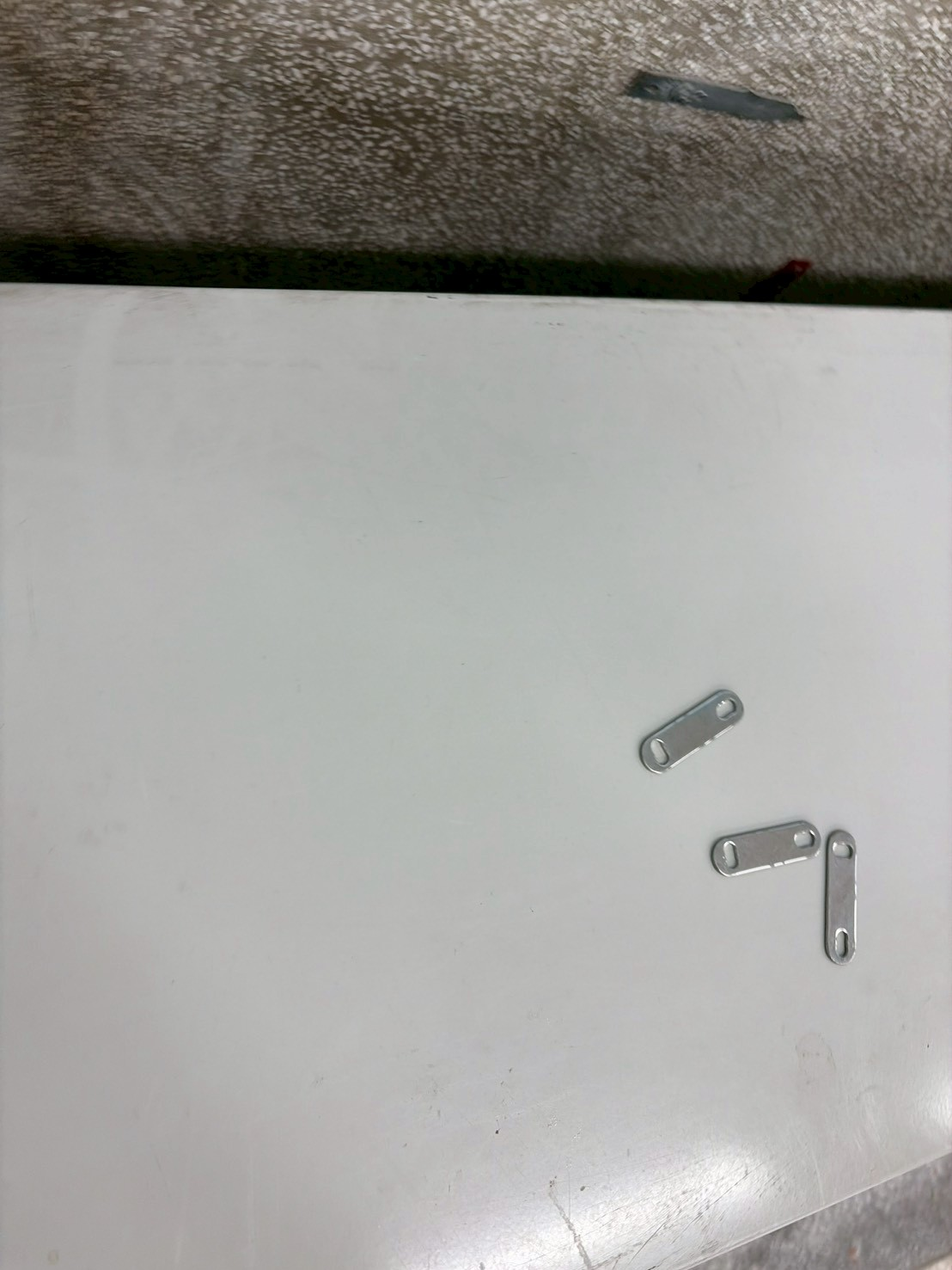Fe: (625, 671, 743, 778), (699, 817, 818, 880), (814, 827, 866, 971)
